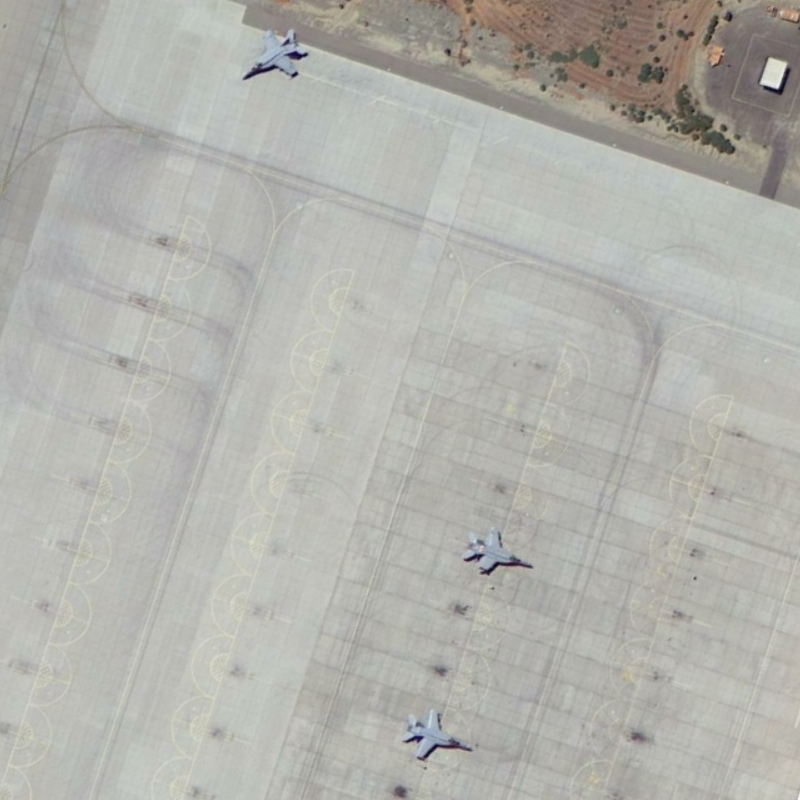A16: (399, 706, 475, 762), (240, 26, 310, 84), (461, 525, 535, 577)
